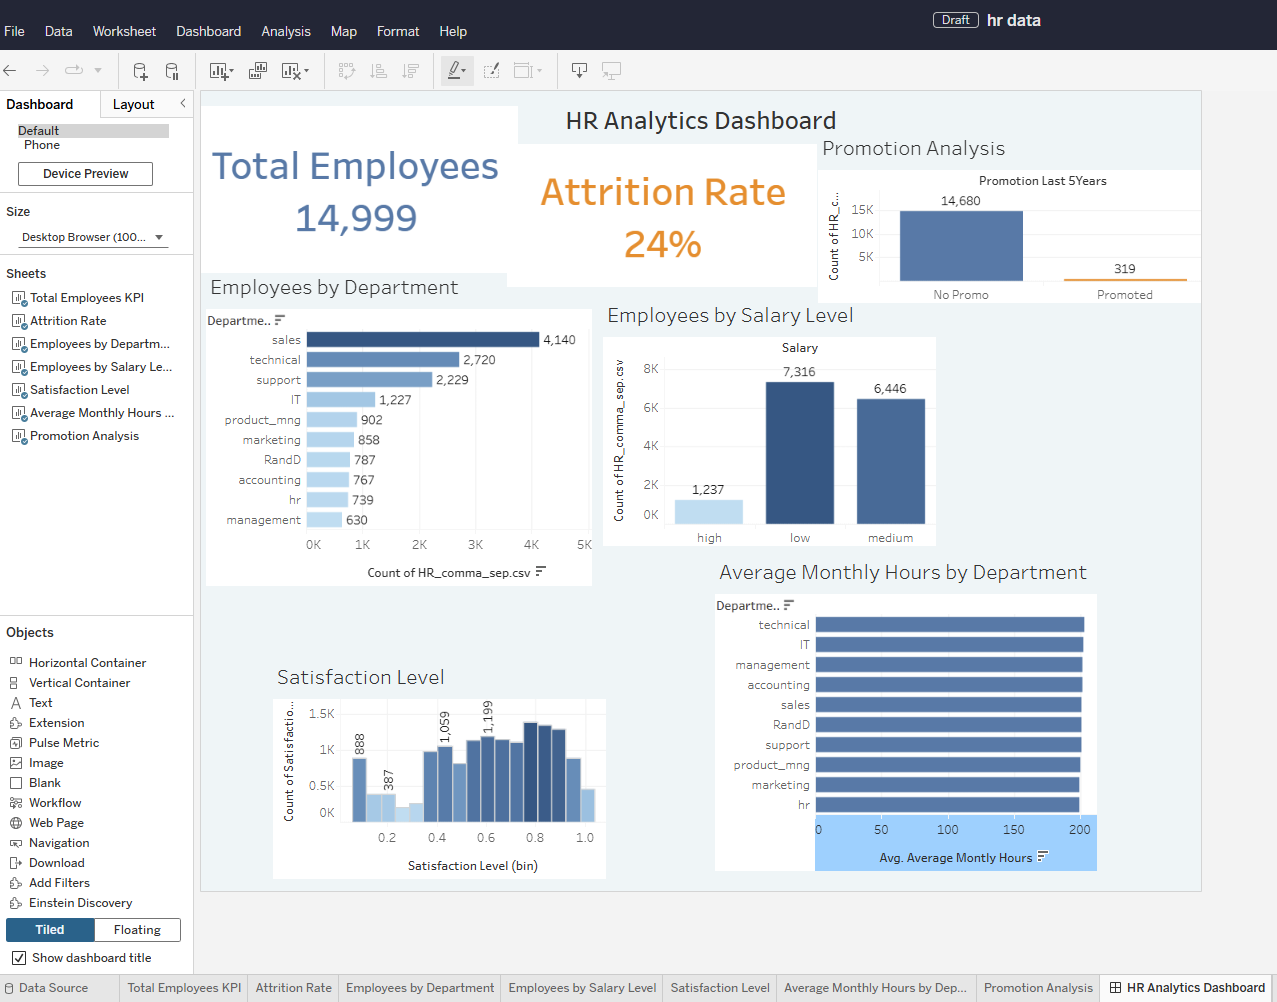

Layout of this report page (visuals, bound fields, positions):
{"tool":"tableau","page":{"name":"HR Analytics Dashboard","canvas":[1000,800],"ordinal":0},"visuals":[{"type":"title","box":[8,8,984,42]},{"type":"worksheet","title":"Attrition Rate","mark":"Automatic","box":[306,53,310,143]},{"type":"worksheet","title":"Employees by Department","mark":"Automatic","rows":["Department"],"cols":["HR_comma_sep.csv_F8F030C8D13A434EA492EE4915CA59E5"],"box":[5,175,386,362]},{"type":"worksheet","title":"Employees by Salary Level","mark":"Automatic","rows":["HR_comma_sep.csv_F8F030C8D13A434EA492EE4915CA59E5"],"cols":["salary"],"box":[402,203,333,252]},{"type":"worksheet","title":"Average Monthly Hours by Department","mark":"Automatic","rows":["Department"],"cols":["average_montly_hours"],"box":[514,460,382,335]},{"type":"worksheet","title":"Satisfaction Level","mark":"Automatic","rows":["satisfaction_level"],"cols":["Satisfaction Level (bin)"],"box":[72,565,333,223]}]}

Visuals, with their boxes on the page's 1000x800 design canvas (x1, y1, x2, y2). These are canvas units, not pixel positions in the 1277x1002 screenshot, which may show the page scaled, cropped or inside an application window:
title: locate(8, 8, 992, 50)
"Attrition Rate" worksheet: locate(306, 53, 616, 196)
"Employees by Department" worksheet: locate(5, 175, 391, 537)
"Employees by Salary Level" worksheet: locate(402, 203, 735, 455)
"Average Monthly Hours by Department" worksheet: locate(514, 460, 896, 795)
"Satisfaction Level" worksheet: locate(72, 565, 405, 788)
